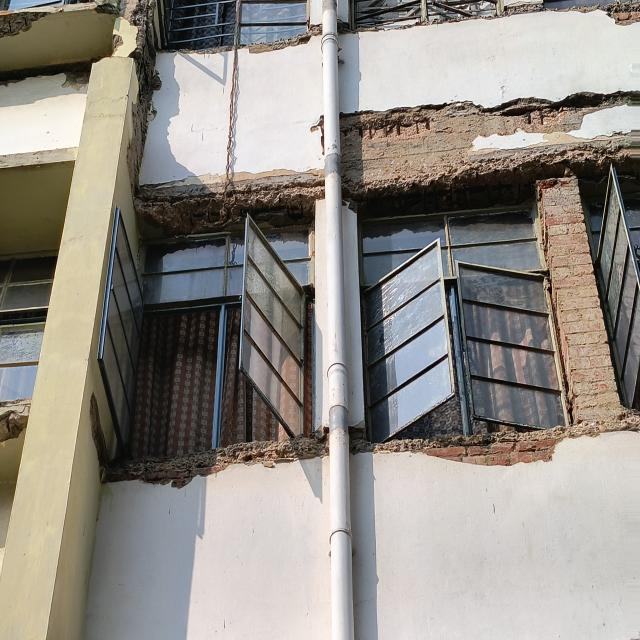Scaling: (350, 411, 640, 465), (101, 434, 329, 487), (245, 25, 322, 54), (431, 3, 548, 22), (90, 392, 108, 467), (567, 0, 640, 16)
Spalling: (340, 92, 640, 215), (92, 0, 159, 193), (134, 168, 324, 235), (0, 60, 95, 91), (0, 399, 31, 442), (0, 12, 50, 38)
exposed brickwork: (536, 176, 620, 422), (424, 439, 561, 466), (610, 11, 640, 26)
